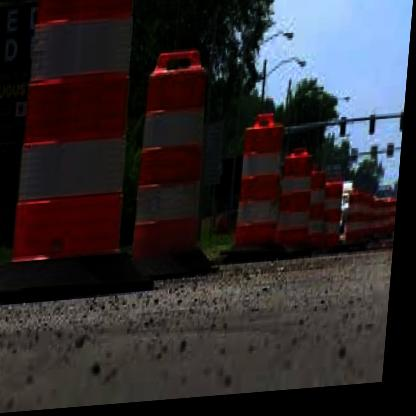obstacle: (12, 0, 142, 266), (132, 50, 216, 268), (238, 117, 289, 251), (282, 152, 319, 256)
